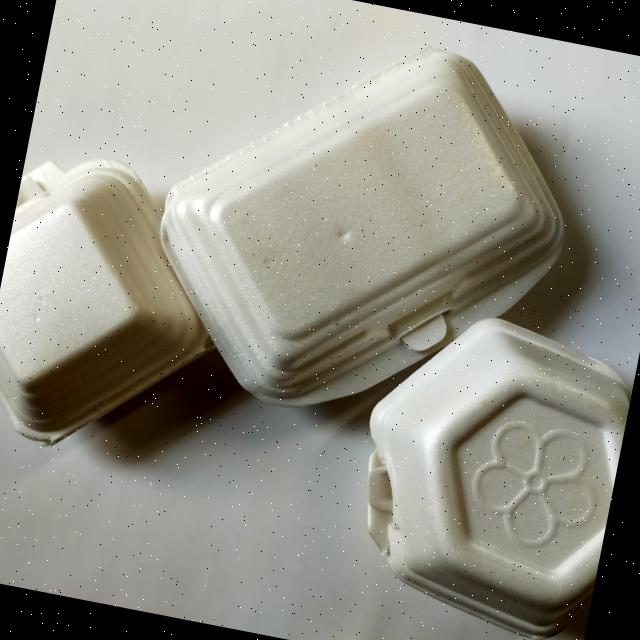styrofoam: (128, 0, 596, 454), (333, 296, 640, 640), (0, 141, 247, 475)
